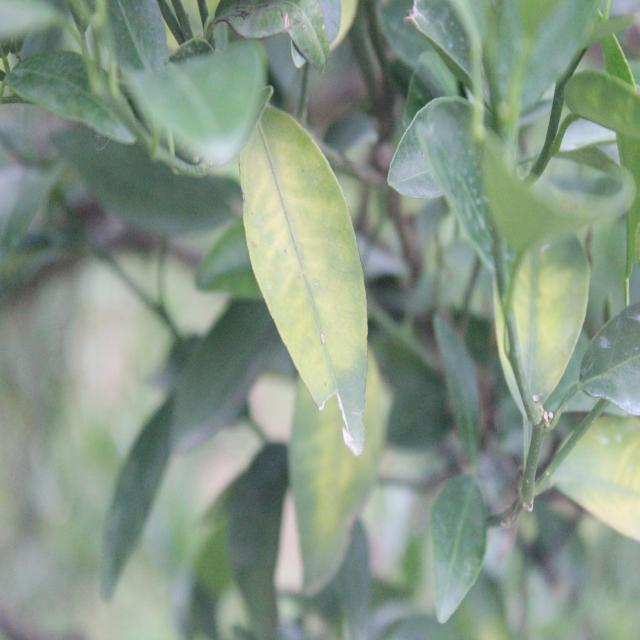greening: (249, 124, 367, 406), (496, 226, 588, 397), (553, 417, 640, 522)
